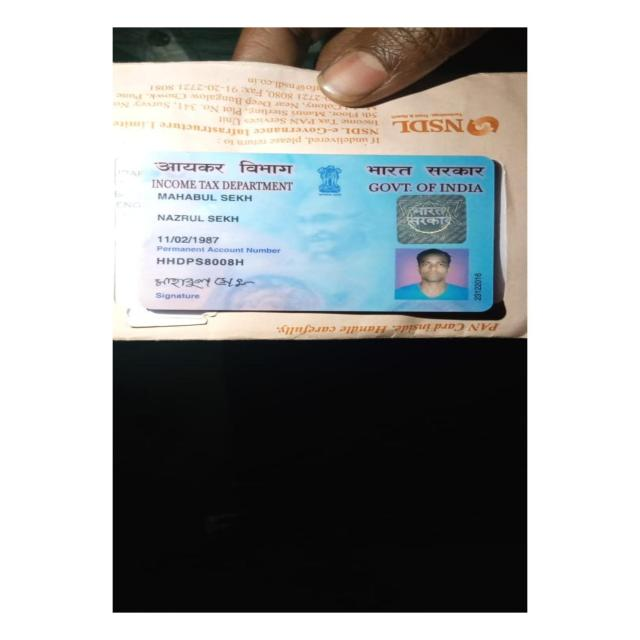pan_card: (129, 153, 497, 314)
